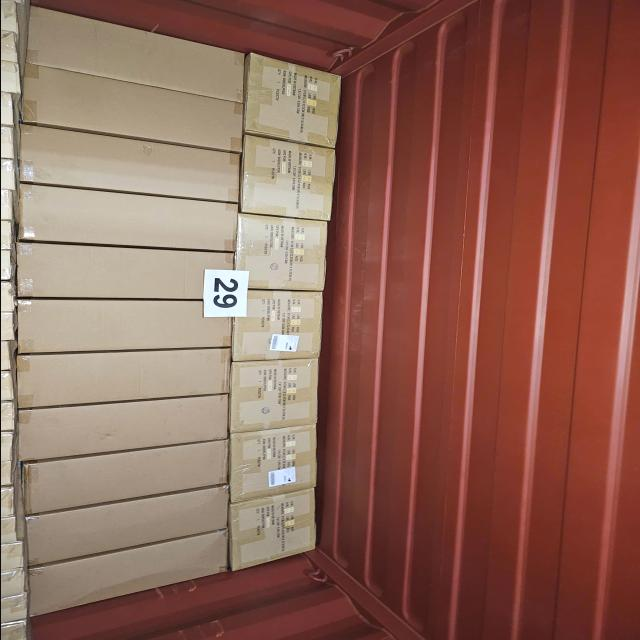Carton: (16, 59, 239, 145), (18, 14, 242, 99), (19, 441, 224, 507), (20, 540, 225, 606), (15, 134, 236, 192), (20, 502, 224, 560), (11, 296, 228, 350), (12, 190, 232, 242), (13, 402, 224, 454), (10, 358, 226, 408), (10, 249, 216, 301), (236, 58, 334, 146), (239, 142, 335, 220), (234, 218, 327, 292), (229, 490, 315, 570), (228, 424, 316, 500), (228, 356, 316, 431), (232, 292, 321, 363)
